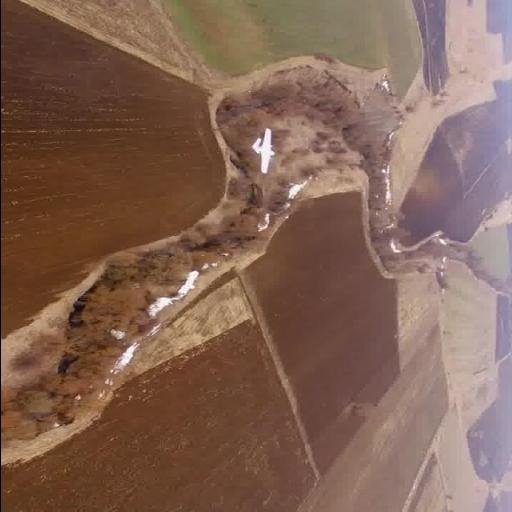uav: (234, 116, 292, 180)
